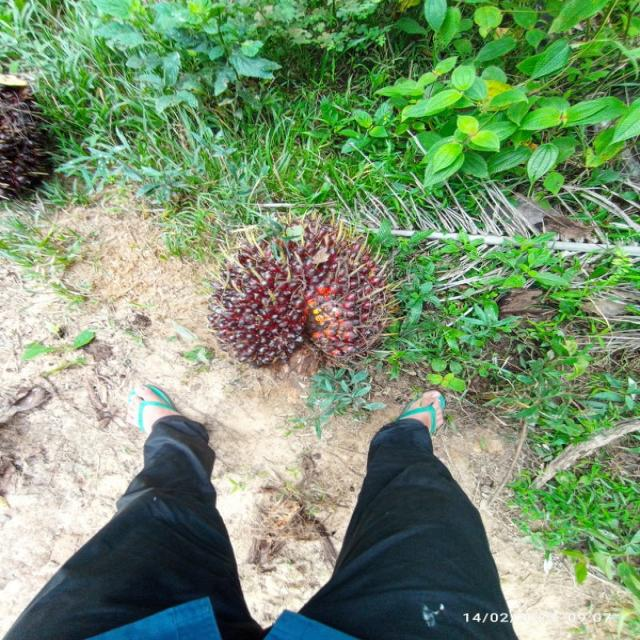fraksi 1: (158, 198, 397, 410)
